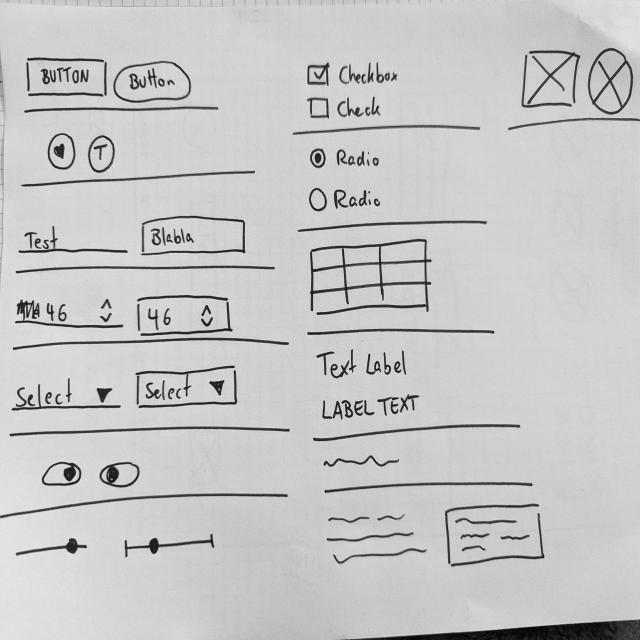button: (25, 56, 109, 98), (112, 60, 192, 103)
checkbox: (305, 61, 400, 88), (307, 95, 385, 120)
icon-button: (86, 133, 115, 174), (48, 131, 76, 172)
image: (520, 47, 580, 111), (586, 46, 634, 115)
input: (140, 213, 248, 258), (17, 222, 129, 255)
label: (315, 350, 412, 380), (320, 393, 420, 422)
number-input: (134, 293, 232, 339), (12, 293, 124, 331)
radio: (308, 186, 382, 213), (308, 146, 381, 170)
select: (131, 362, 239, 410), (11, 376, 123, 411)
slider: (123, 532, 218, 560), (14, 536, 92, 558)
table: (309, 236, 430, 320)
text: (317, 452, 403, 472)
textbox: (444, 500, 546, 569), (322, 510, 430, 568)
toggle: (40, 459, 83, 488), (96, 461, 142, 488)
